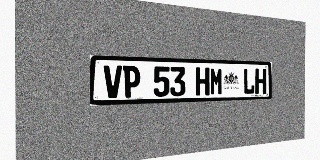3: (170, 67, 185, 96)
5: (154, 66, 170, 97)
H: (196, 67, 209, 96), (255, 68, 266, 94)
L: (243, 68, 255, 94)
M: (210, 67, 223, 95)
P: (123, 65, 140, 98)
V: (104, 65, 122, 98)
